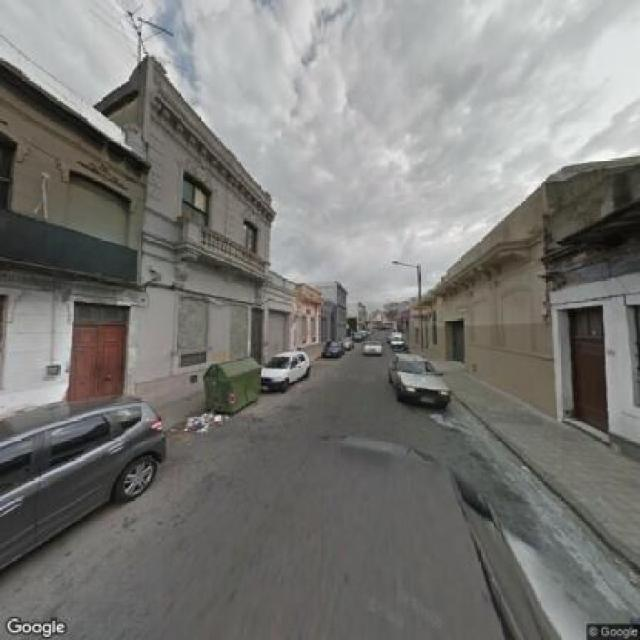garbage: (179, 405, 226, 435)
